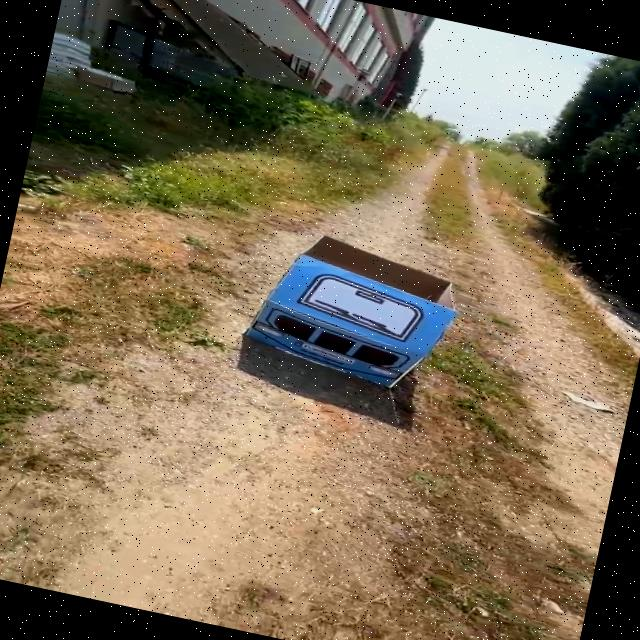blue_car: (208, 210, 481, 420)
